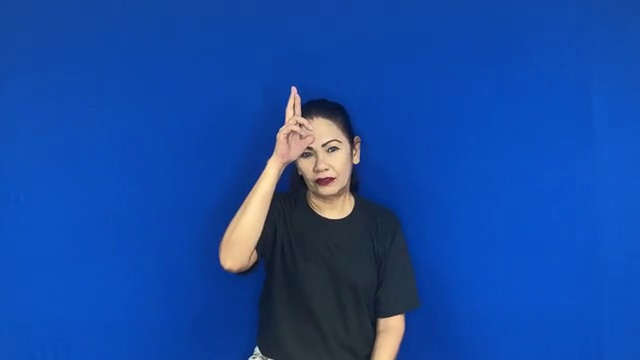chicken: (263, 81, 322, 168)
